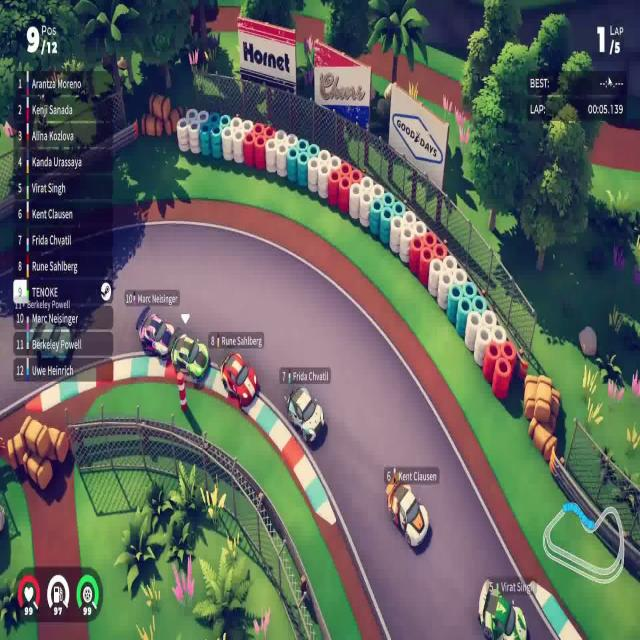car: (385, 468, 429, 549), (477, 578, 528, 639), (285, 385, 325, 445), (220, 351, 259, 408), (136, 305, 176, 360), (170, 332, 210, 382)
